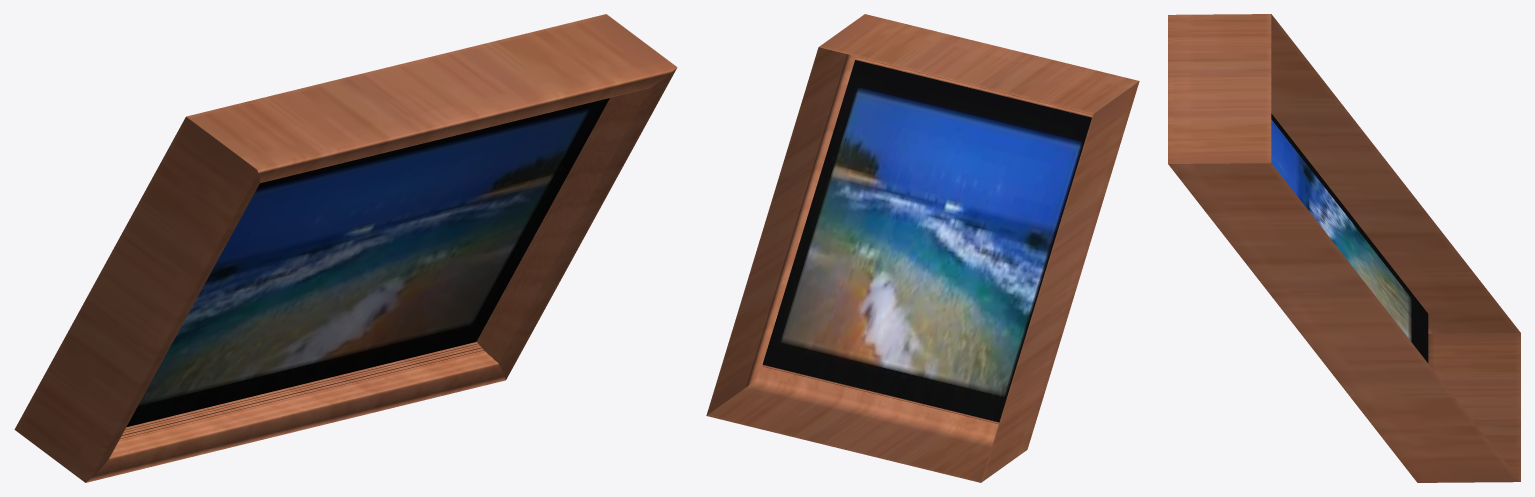
The model's file is sh-contrib-picture.glb.
3 renders of one model, left to right at view 1: azimuth 30°, elevation 25°; view 2: azimuth 150°, elevation 25°; view 3: azimuth 270°, elevation 25°, orthographic. The views are drawn at different scales.
Parts seen in each view (by area): view 1: Picture_1, Picture_5; view 2: Picture_5, Picture_1; view 3: Picture_1, Picture_5.
Boxes of the visible parts, bbox=[...] form: Picture_1: bbox=[14, 14, 677, 482]; Picture_5: bbox=[126, 98, 609, 427]; Picture_5: bbox=[762, 60, 1091, 422]; Picture_1: bbox=[706, 14, 1139, 482]; Picture_1: bbox=[1168, 14, 1520, 482]; Picture_5: bbox=[1271, 113, 1428, 362].
Bounding box in the file's own units: 1 × 1 × 1.
Materials: 2 (2 with a texture image).
